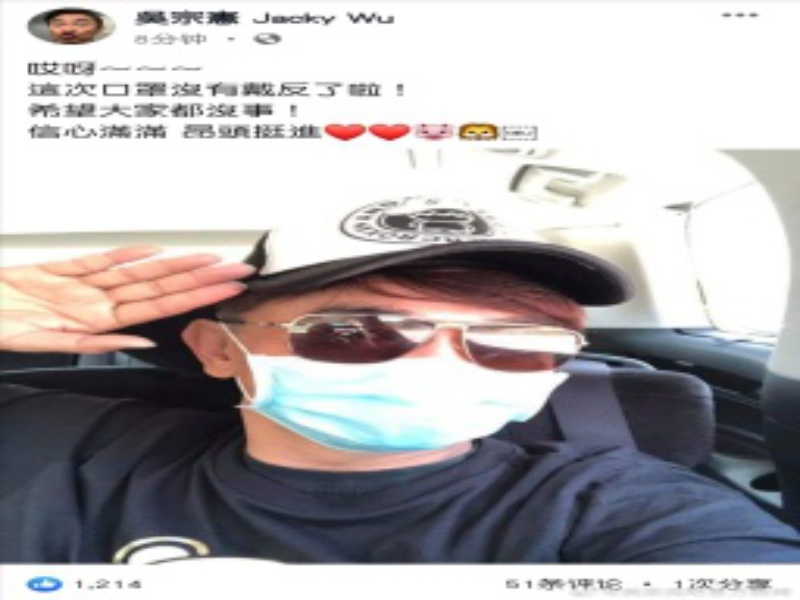ManaoArotava: (188, 168, 611, 485)
